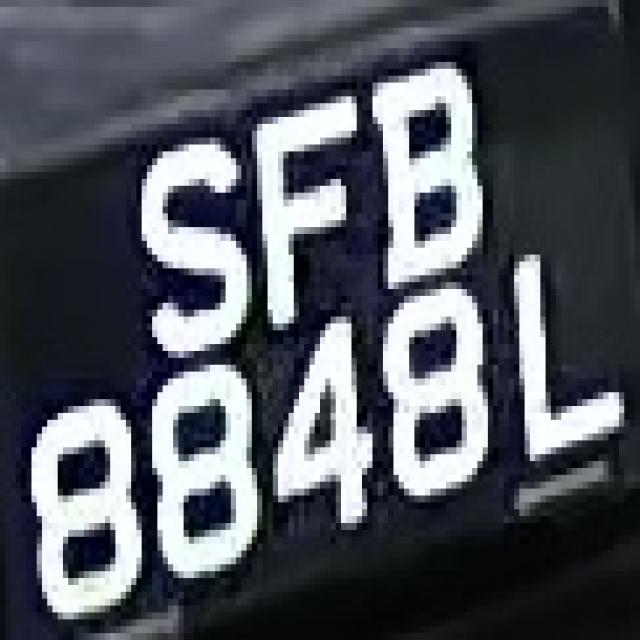4: (246, 296, 372, 544)
8: (368, 262, 498, 516), (146, 351, 273, 591), (24, 396, 147, 628), (0, 4, 1, 7)
B: (362, 48, 488, 310)
F: (242, 90, 372, 337)
L: (498, 220, 630, 468)
S: (126, 124, 241, 371)
